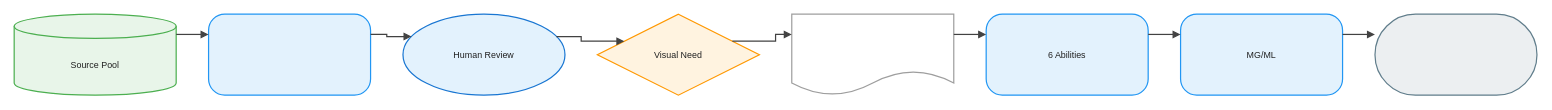
Image size: 1552x110. Some labels were removed from this diagram. Here are the shapes that lost their labels. From the top down, the centre of each, then its label:
[289,54]: LLM Filter
[872,54]: 1500 Samples
[1455,54]: LVLM Eval
